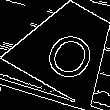O_NE: (35, 15, 100, 80)
